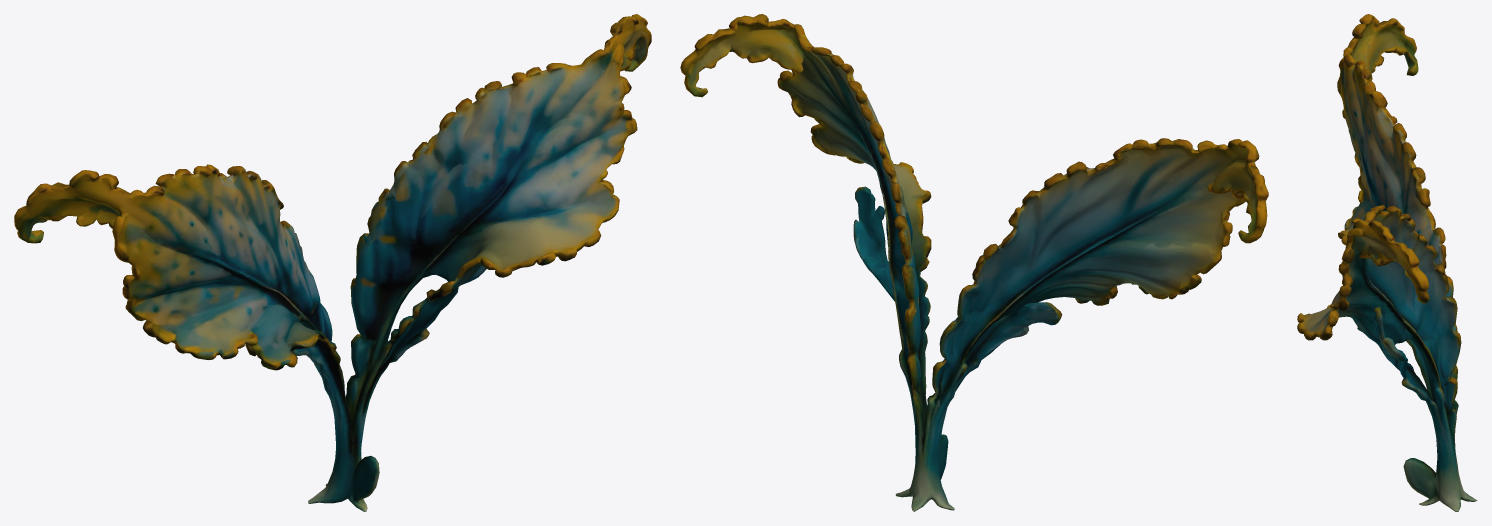
File: leaf+pair+3d+model+1k.glb
3 views of the same model, side by side, from view 1: azimuth 30°, elevation 25°; view 2: azimuth 150°, elevation 25°; view 3: azimuth 270°, elevation 25° (orthographic). The views are drawn at different scales.
Parts seen in each view (by area): view 1: tripo_node_73b1e367-de44-4c9b-add3-ea800ed88c79; view 2: tripo_node_73b1e367-de44-4c9b-add3-ea800ed88c79; view 3: tripo_node_73b1e367-de44-4c9b-add3-ea800ed88c79.
Part boxes in pixels (x1=…): tripo_node_73b1e367-de44-4c9b-add3-ea800ed88c79: x1=14, y1=14, x2=651, y2=511; tripo_node_73b1e367-de44-4c9b-add3-ea800ed88c79: x1=680, y1=14, x2=1268, y2=511; tripo_node_73b1e367-de44-4c9b-add3-ea800ed88c79: x1=1297, y1=14, x2=1477, y2=511.
Size of the model in its own units: 1 by 0.6735 by 0.2929.
Materials: 1 (1 with a texture image).
